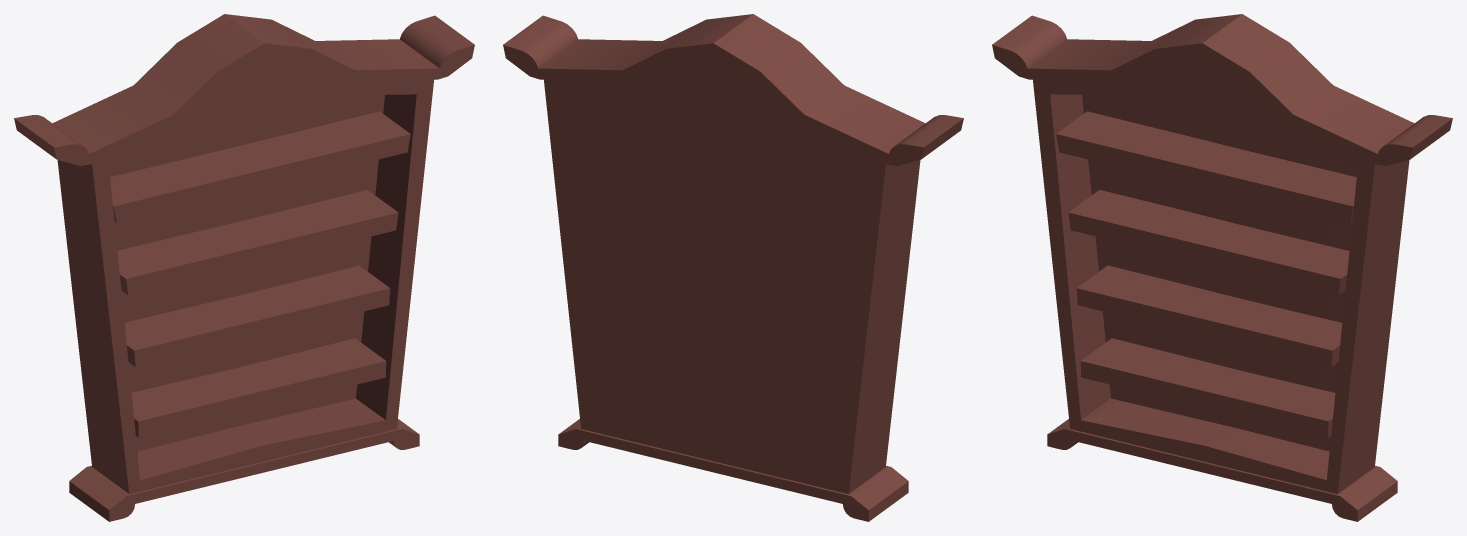
Rendered from SM_Bookcase.fbx.
3 views of the same model, side by side, from view 1: azimuth 30°, elevation 25°; view 2: azimuth 150°, elevation 25°; view 3: azimuth 330°, elevation 25° (orthographic).
Parts seen in each view (by area): view 1: SM_Bookcase; view 2: SM_Bookcase; view 3: SM_Bookcase.
Boxes of the visible parts, x1=… form: SM_Bookcase: x1=14, y1=14, x2=474, y2=521; SM_Bookcase: x1=503, y1=14, x2=963, y2=521; SM_Bookcase: x1=992, y1=14, x2=1452, y2=521.
Size of the model in its own units: 176 by 176 by 28.99.
